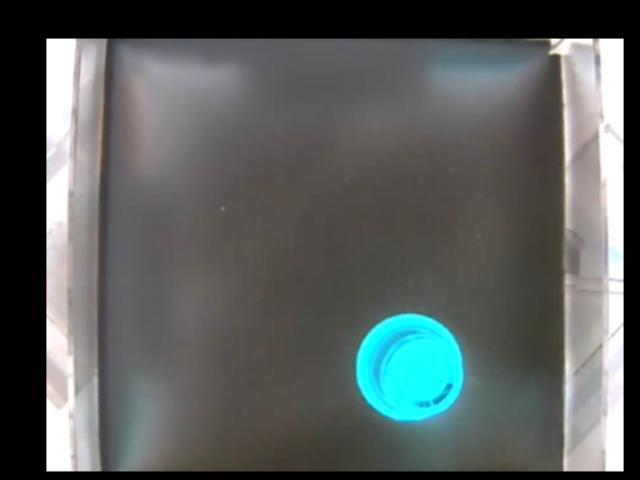Cup: (354, 310, 464, 421)
